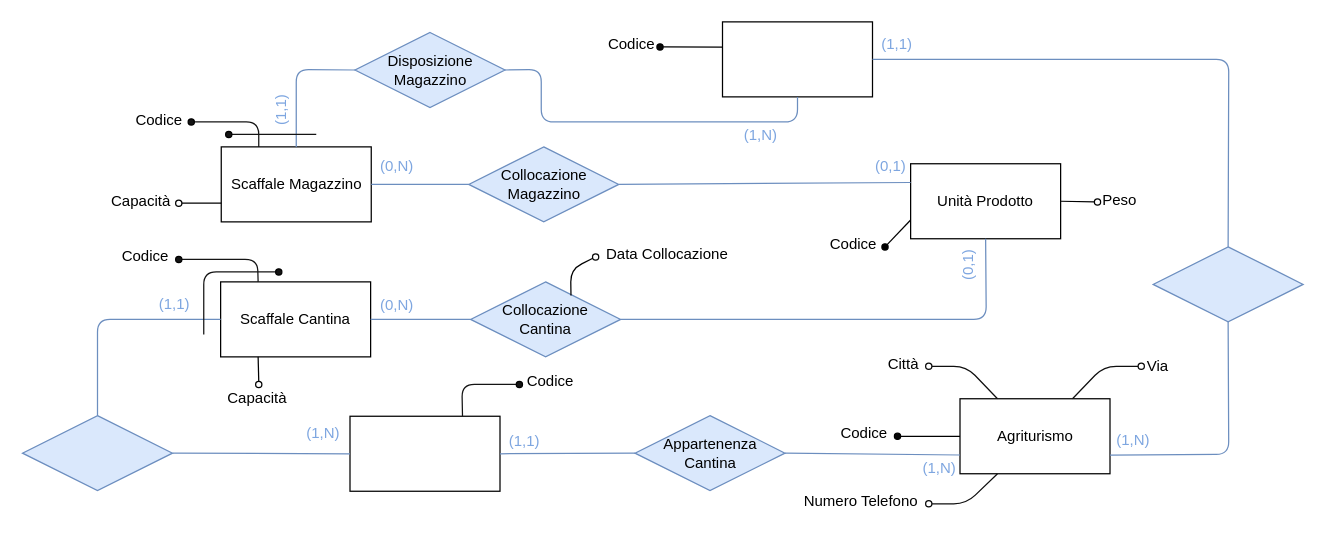
Image size: 1325x535. Some labels were removed from this diagram. The centre of each missing label's shape, as x and y in pixels:
"Appartenenza Magazzino" goes at point 1227,284.
"Cantina" goes at point 424,453.
"Disposizione Cantina" goes at point 96,452.
"Magazzino" goes at point 796,59.
